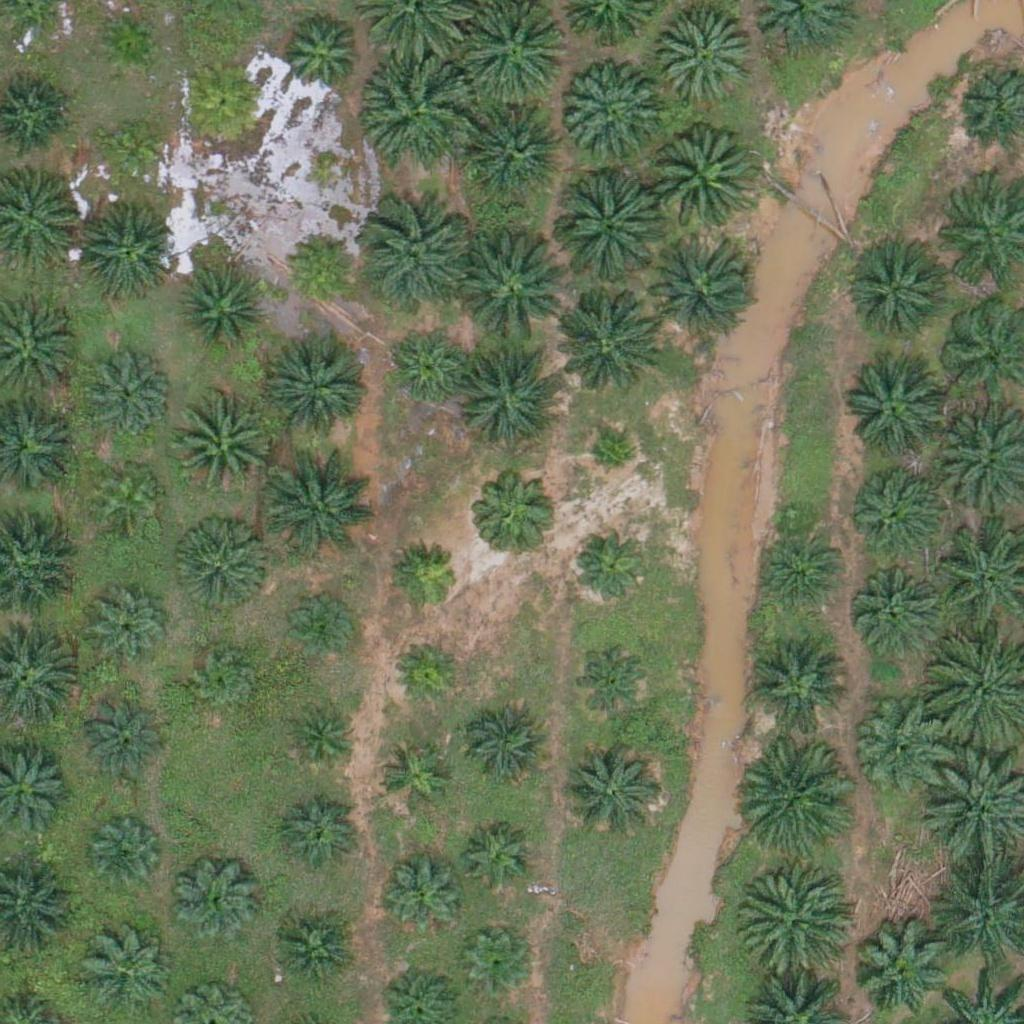Kelapa_Sawit: (740, 737, 853, 851), (736, 861, 849, 974), (549, 171, 662, 284), (546, 288, 659, 401), (364, 52, 477, 165), (361, 200, 474, 313), (453, 230, 565, 344), (266, 449, 378, 562), (645, 123, 757, 236), (642, 231, 754, 344), (458, 340, 570, 453), (561, 743, 661, 844), (72, 202, 172, 303), (171, 395, 271, 496), (268, 334, 368, 435), (846, 454, 946, 555), (846, 362, 946, 463), (852, 236, 952, 337), (748, 634, 848, 735), (656, 9, 756, 110), (561, 62, 661, 163), (850, 920, 950, 1020), (172, 514, 272, 614), (853, 697, 953, 797), (849, 556, 949, 656), (468, 100, 568, 200), (378, 849, 466, 938), (179, 56, 267, 145), (570, 637, 658, 726), (276, 793, 364, 881), (264, 909, 352, 997), (385, 326, 473, 414), (79, 698, 167, 786), (86, 580, 174, 668), (470, 463, 558, 551), (464, 702, 552, 790), (172, 856, 259, 944), (83, 929, 170, 1017), (84, 347, 171, 435), (178, 267, 265, 355), (568, 519, 655, 607), (755, 522, 842, 610), (275, 11, 362, 99), (282, 228, 357, 304), (87, 819, 162, 895), (285, 590, 360, 666), (460, 929, 535, 1005), (283, 702, 358, 778), (90, 5, 165, 81), (94, 113, 169, 189), (390, 540, 465, 615), (91, 461, 166, 536), (375, 740, 450, 815), (189, 645, 264, 720), (463, 824, 538, 899), (390, 636, 465, 711), (587, 434, 637, 484)
